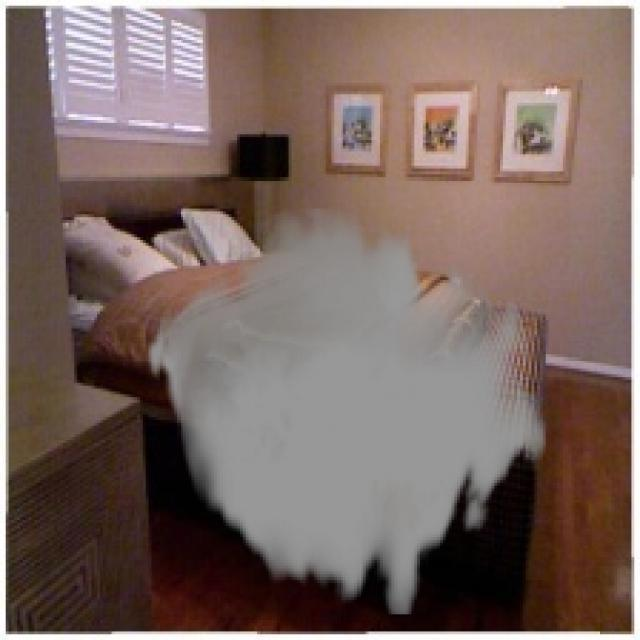Smoke: (146, 208, 548, 614)
